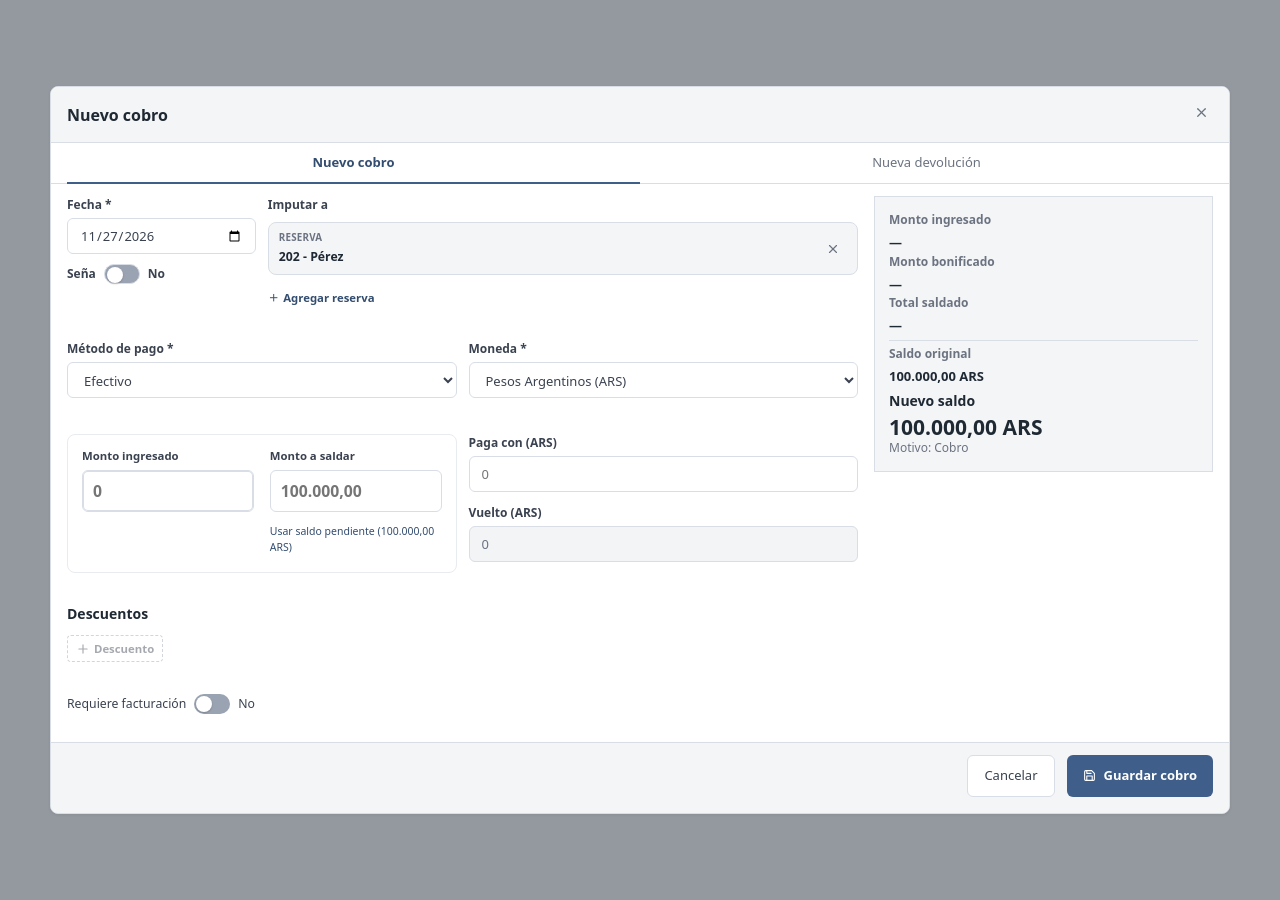
Scenario: CobroForm facturación › USD: TC junto a moneda; monto USD + equiv ARS bajo ingresado sync con saldar
The width and height of the screenshot is (1280, 900).
Select "Dólares (USD)" in the dropdown with test id "payment-moneda" at (663, 380), box [468,362,858,398]
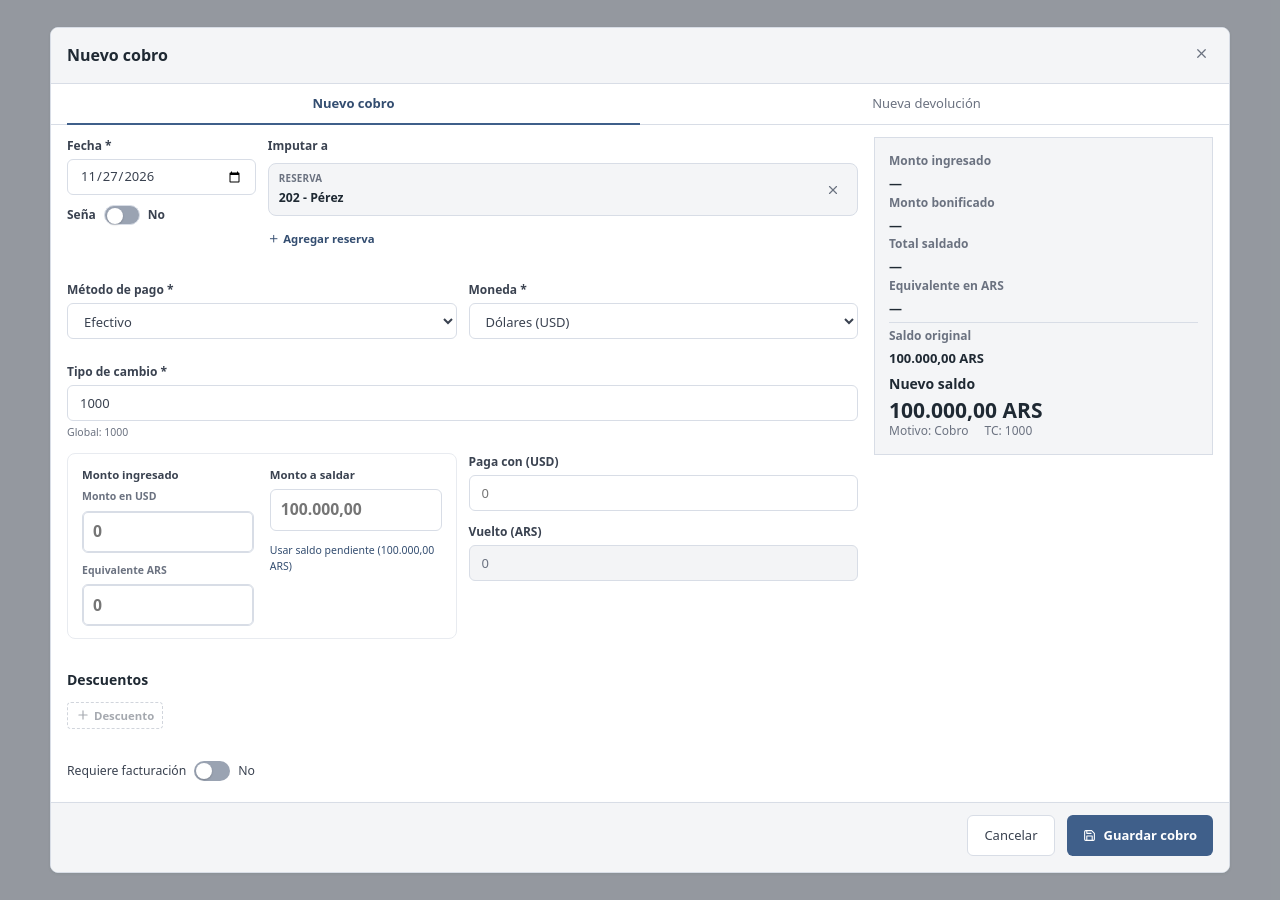
expect the number field labelled "Tipo de cambio *" is shown: met, box [67,385,858,421]
expect the element with test id "payment-fx-sync" is shown: met, box [82,489,254,626]
Note: Monto USD → equiv ARS + saldar
Type "100" into the number field with test id "payment-monto-ingresado".
click(168, 532); type("100")  # box [82,511,254,553]
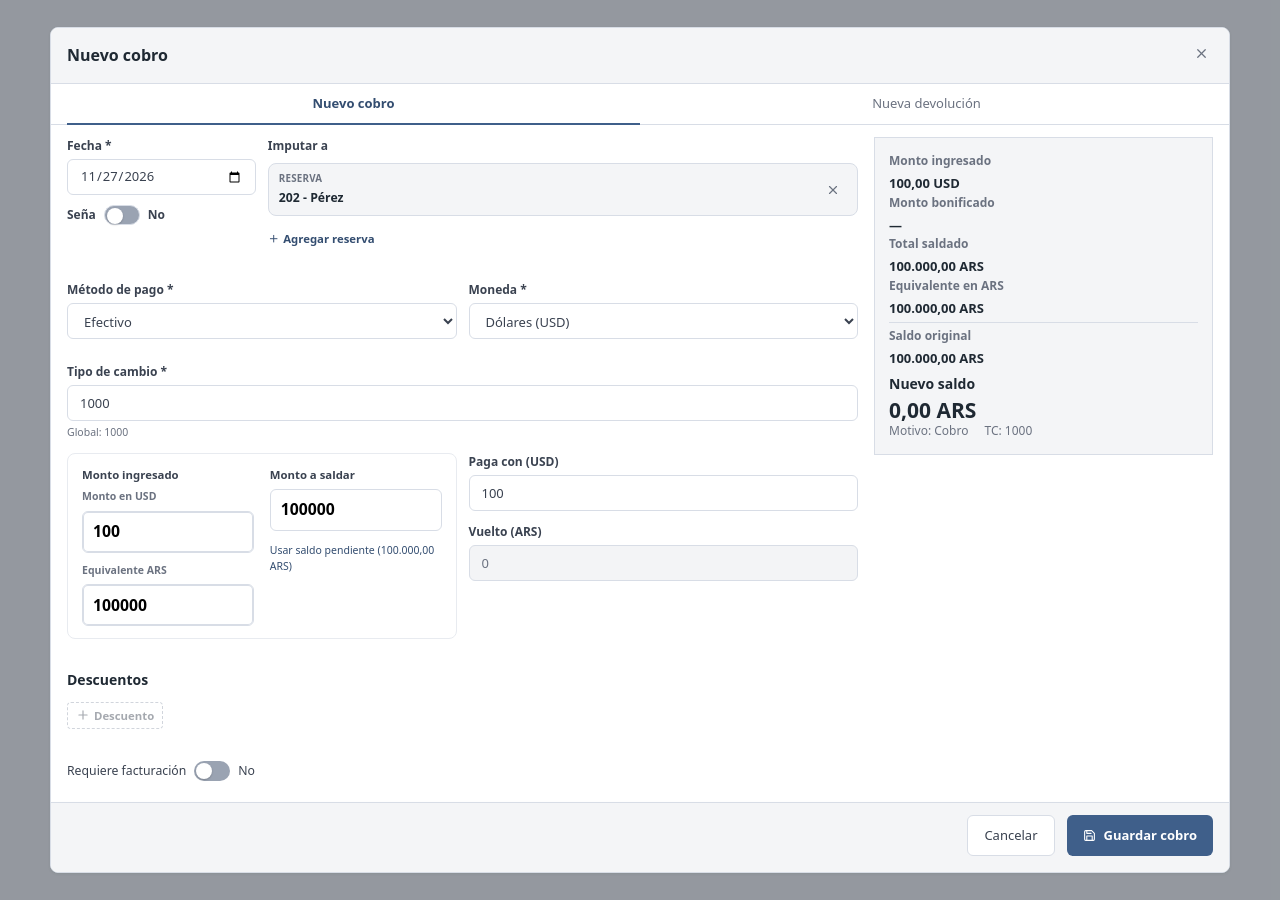
expect the number field with test id "payment-equiv-ars" holds "100000": met
expect the number field with test id "payment-monto-saldar" holds "100000": met, box [270,489,442,531]
Note: Equiv ARS → monto USD + saldar
Replace the text in the number field with test id "payment-equiv-ars" with "50000" at (168, 605), box [82,584,254,626]
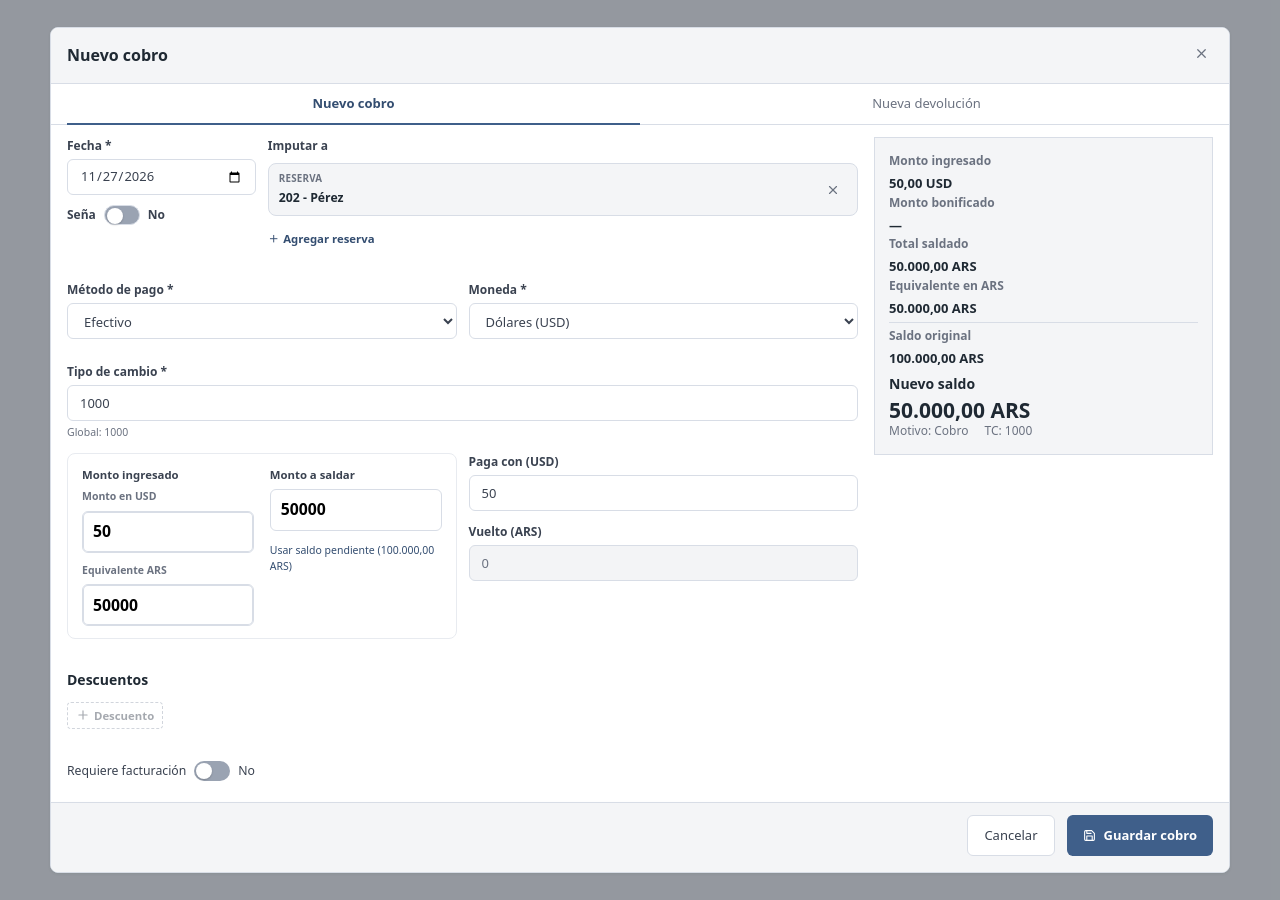
expect the number field with test id "payment-monto-ingresado" holds "50": met, box [82,511,254,553]
expect the number field with test id "payment-monto-saldar" holds "50000": met, box [270,489,442,531]
Note: TC → mantiene monto USD, recalcula ARS/saldar
Replace the text in the number field with test id "payment-tc" with "1200" at (462, 403), box [67,385,858,421]
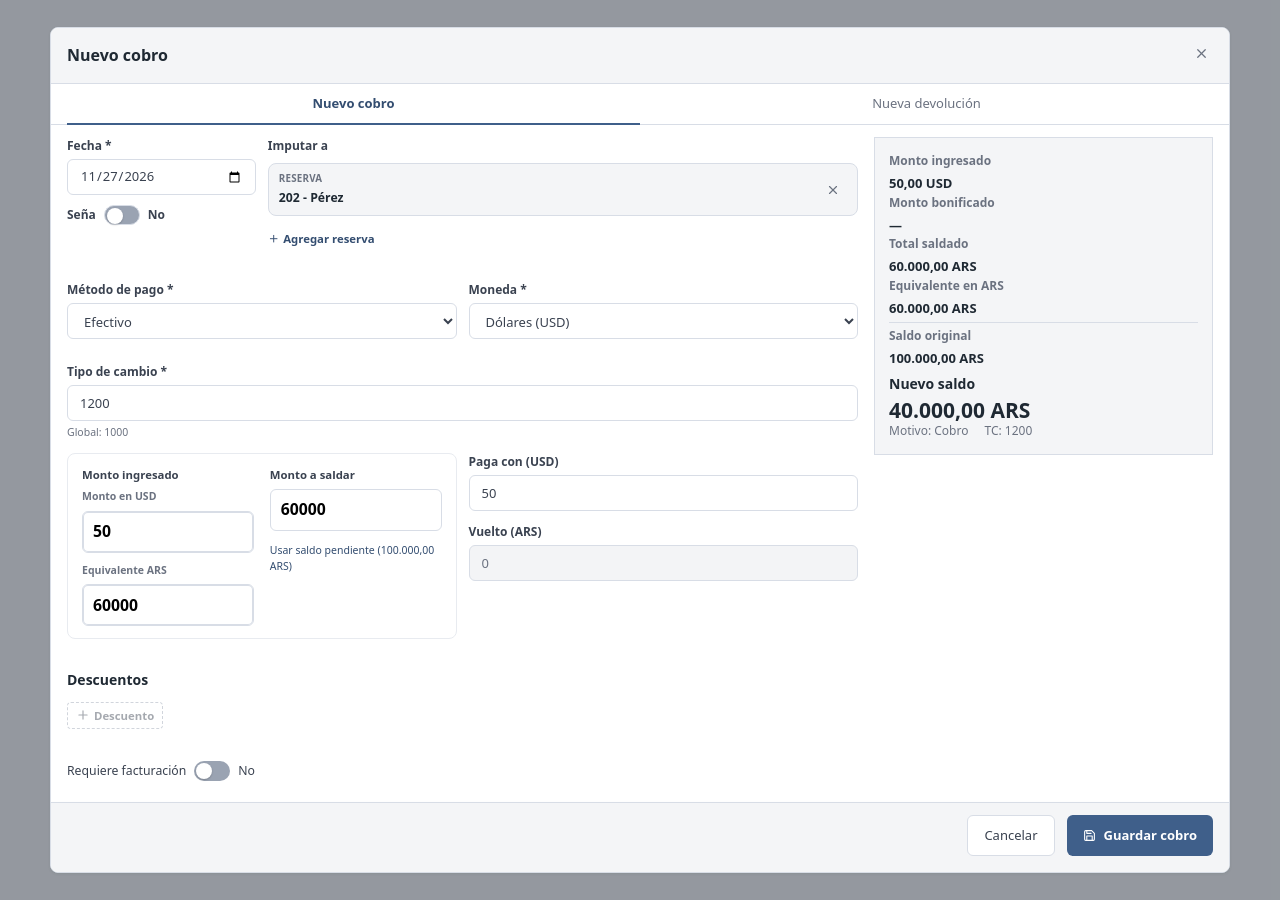
expect the number field with test id "payment-monto-ingresado" holds "50": met, box [82,511,254,553]
expect the number field with test id "payment-equiv-ars" holds "60000": met, box [82,584,254,626]
expect the number field with test id "payment-monto-saldar" holds "60000": met
Note: Saldar ARS → monto USD + equiv
Replace the text in the number field with test id "payment-monto-saldar" with "24000" at (356, 510), box [270,489,442,531]
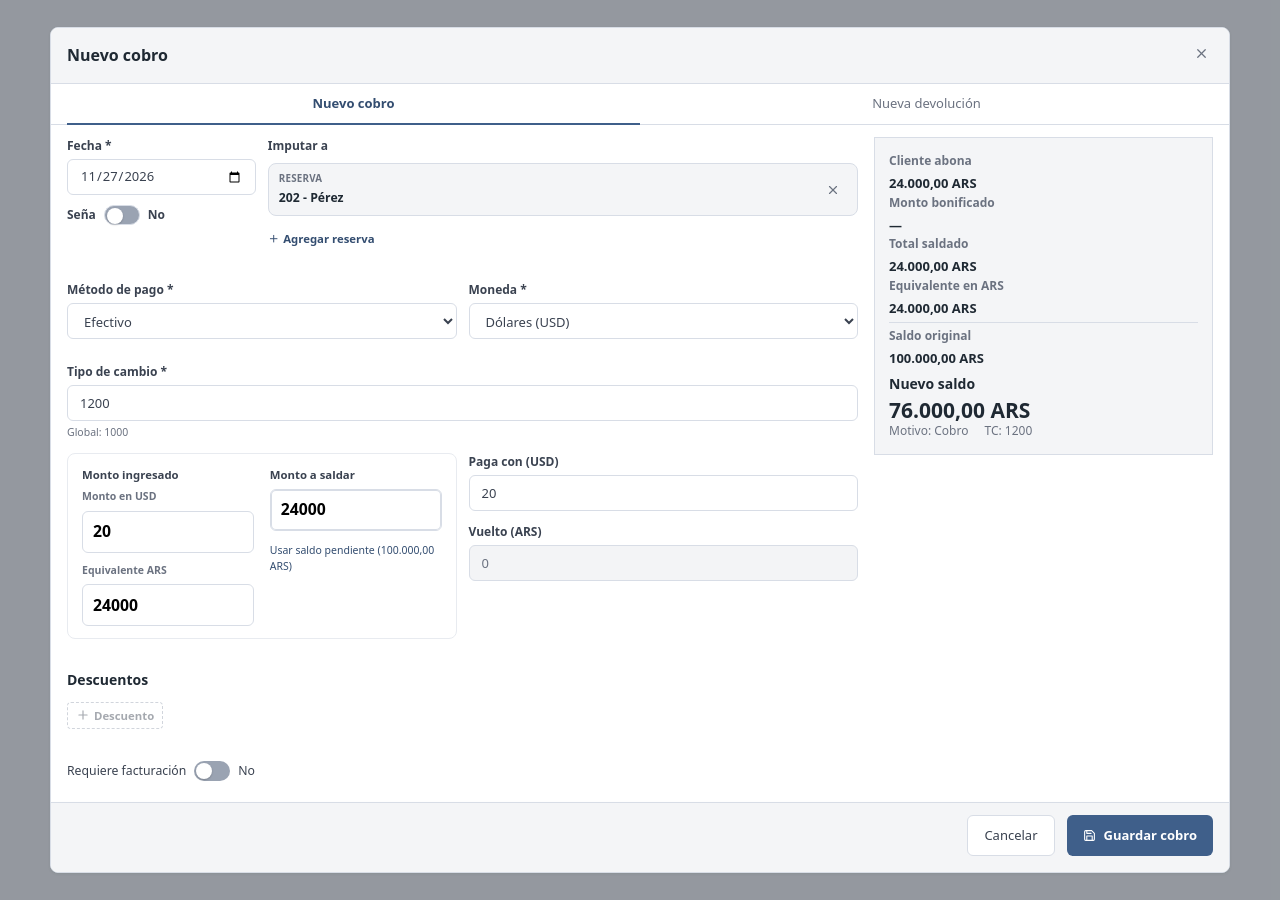
expect the number field with test id "payment-monto-ingresado" holds "20": met, box [82,511,254,553]
expect the number field with test id "payment-equiv-ars" holds "24000": met, box [82,584,254,626]
